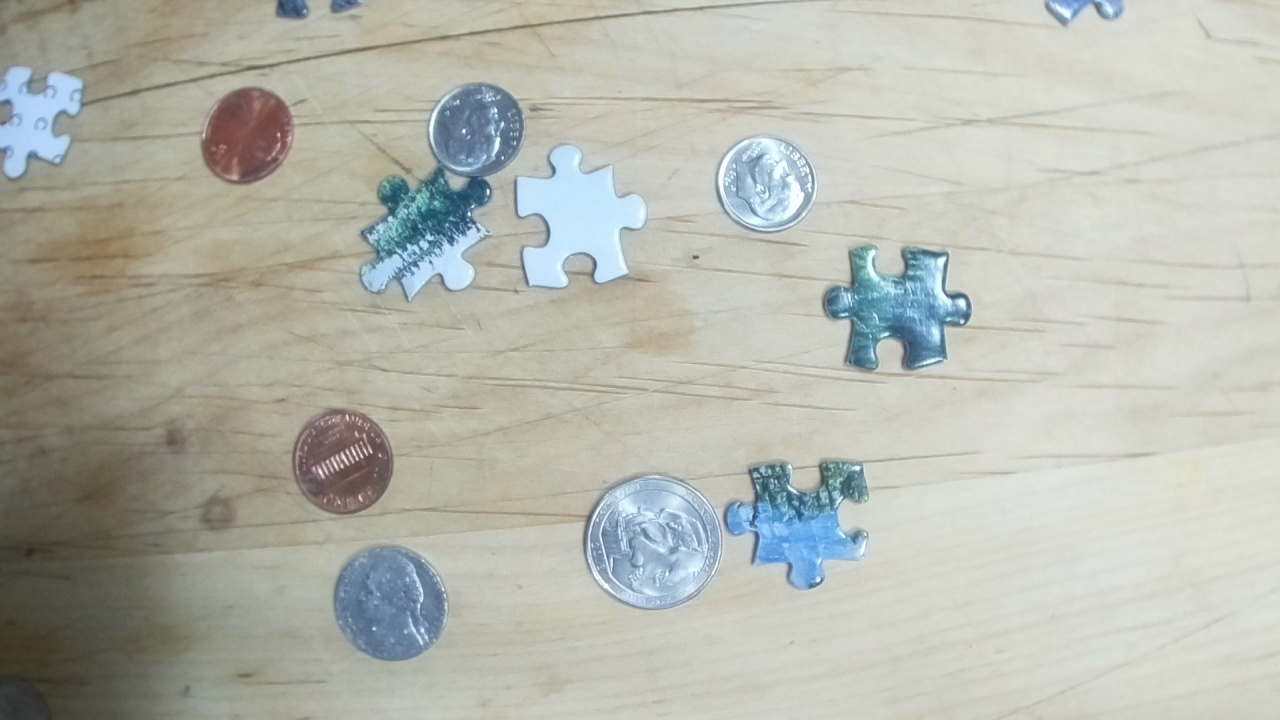dime: (714, 134, 818, 236), (426, 83, 524, 175)
nickel: (332, 540, 452, 666)
penny: (293, 408, 395, 514), (200, 84, 294, 182)
quarter: (581, 468, 721, 610)
